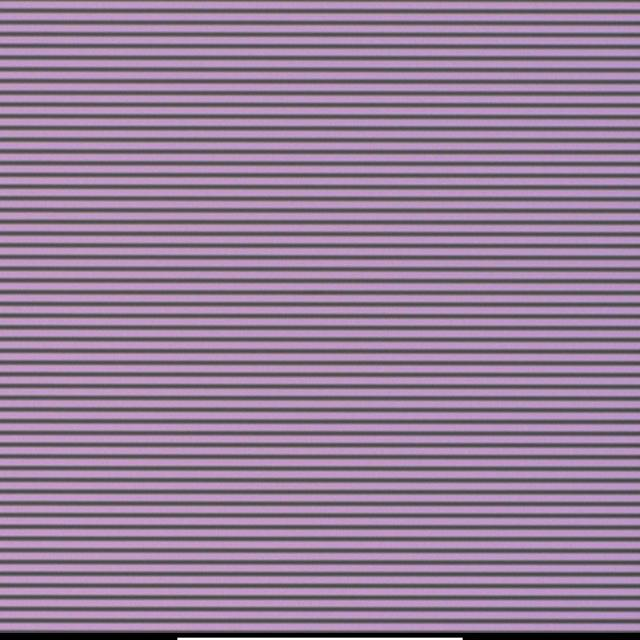03_intrusion: (298, 264, 304, 277)
